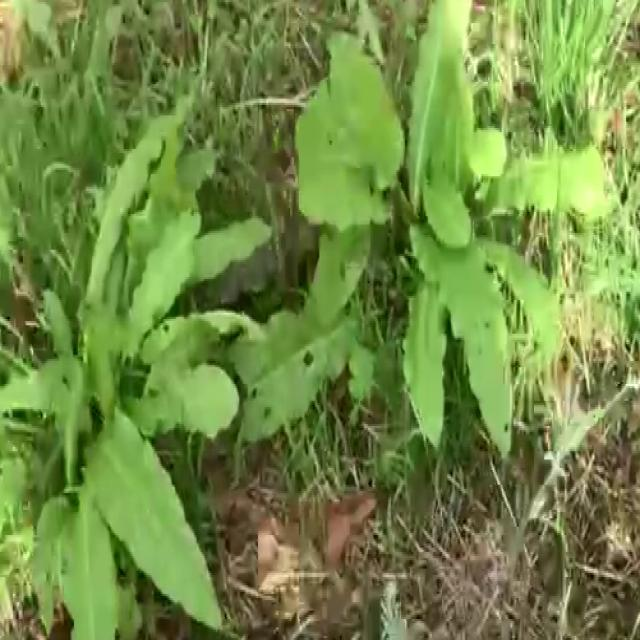organic waste: (270, 6, 628, 478), (0, 151, 261, 638)
